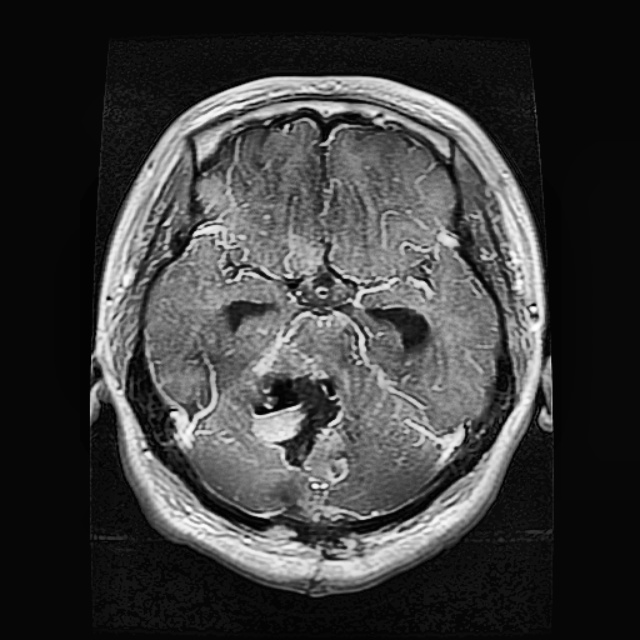Glioma: (247, 369, 344, 468)
